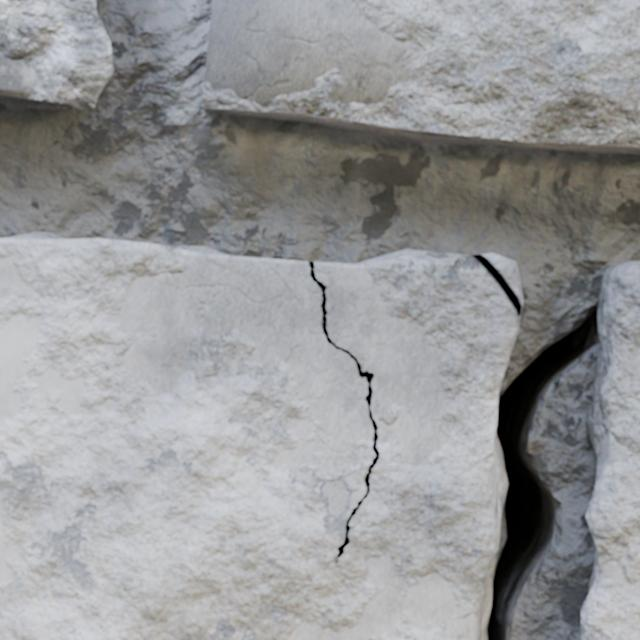broken_brick: (202, 0, 639, 154)
crack: (0, 232, 639, 639), (0, 0, 113, 110)
